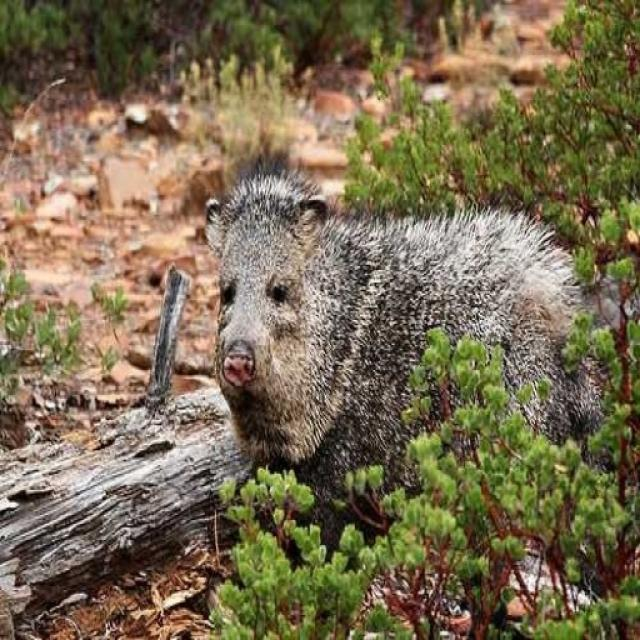pig: (188, 166, 601, 532)
